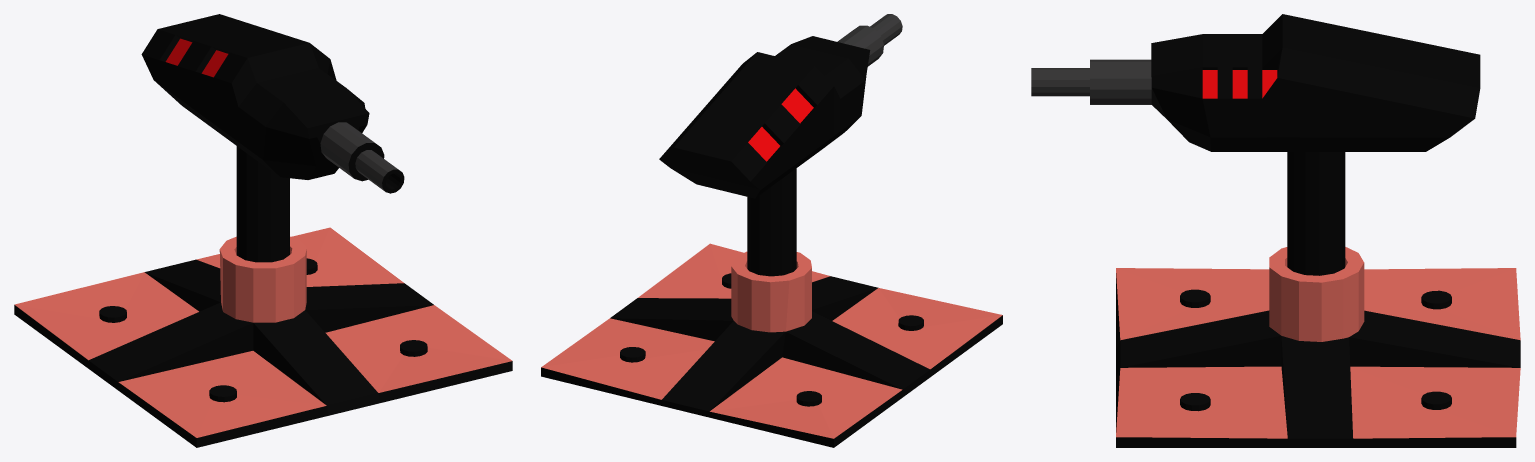
Rendered from Turret.fbx.
3 renders of one model, left to right at view 1: azimuth 30°, elevation 25°; view 2: azimuth 150°, elevation 25°; view 3: azimuth 270°, elevation 25°, orthographic. The views are drawn at different scales.
Parts seen in each view (by area): view 1: Cube, Cube.001, Cube.002; view 2: Cube, Cube.001, Cube.002; view 3: Cube, Cube.001, Cube.002.
Boxes of the visible parts, x1=… form: Cube: x1=14, y1=227, x2=512, y2=447; Cube.001: x1=141, y1=14, x2=404, y2=193; Cube.002: x1=236, y1=146, x2=289, y2=262; Cube: x1=541, y1=243, x2=1002, y2=447; Cube.001: x1=659, y1=14, x2=902, y2=198; Cube.002: x1=747, y1=168, x2=796, y2=276; Cube: x1=1116, y1=247, x2=1520, y2=447; Cube.001: x1=1031, y1=14, x2=1480, y2=151; Cube.002: x1=1287, y1=152, x2=1345, y2=275.
Bounding box in the file's own units: 8956 × 8215 × 10948.
